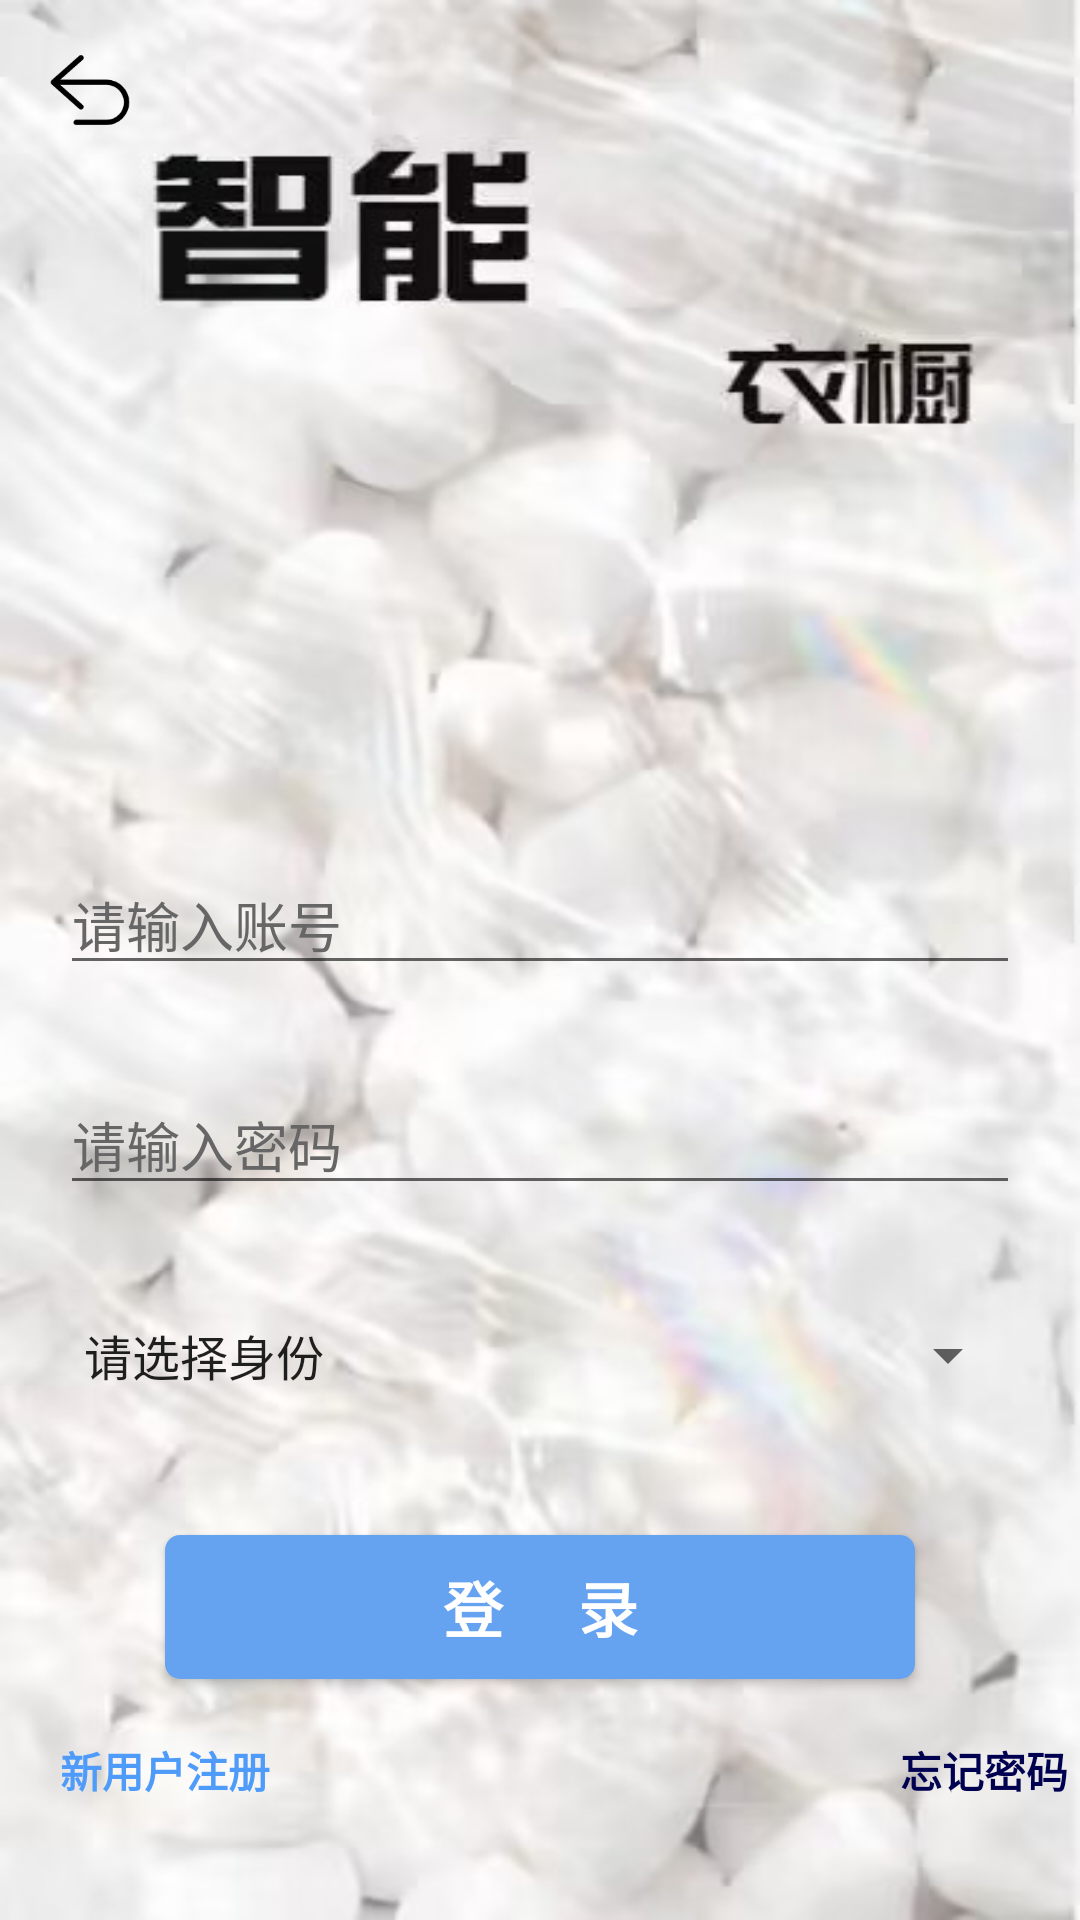

Locate icon controls on the screen. Image size 1080 x 1920, boxes as detection(x1, y1, x2, y2).
back: detection(50, 55, 130, 125)
